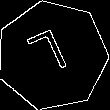L_SE: (28, 26, 77, 85)
